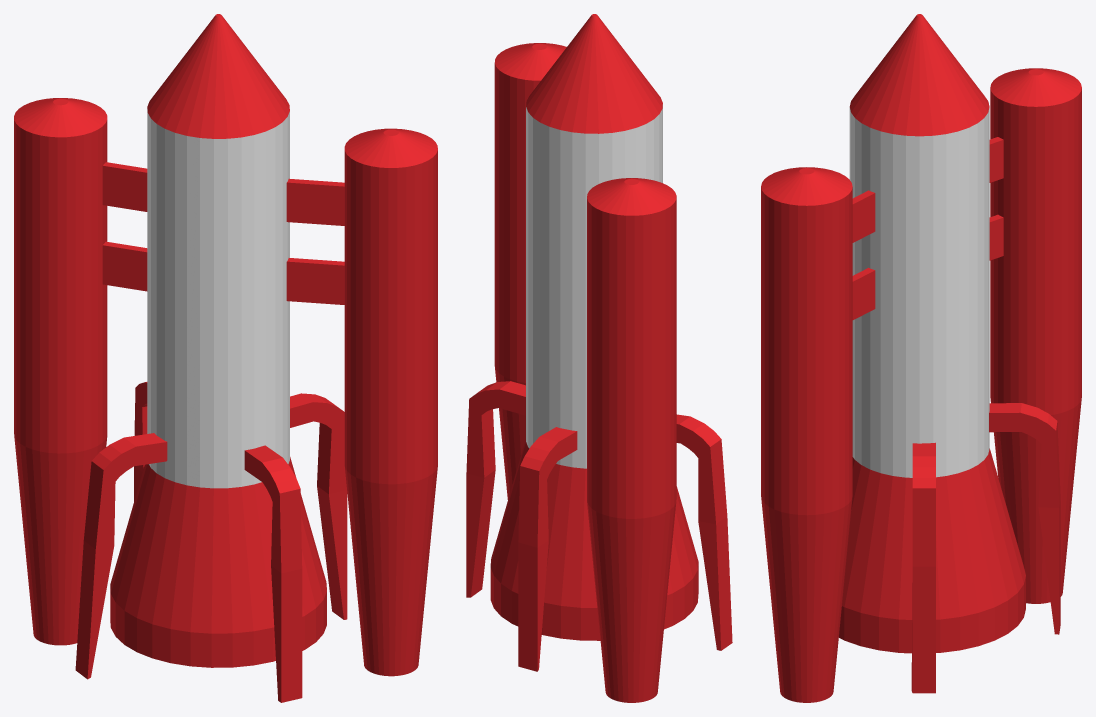
The model's file is foguete.gltf.
The picture shows the model from 3 angles, left to right: view 1: azimuth 30°, elevation 25°; view 2: azimuth 150°, elevation 25°; view 3: azimuth 270°, elevation 25°; orthographic projection. The views are drawn at different scales.
Visible parts, largest first — view 1: Cube; view 2: Cube; view 3: Cube.
Part boxes in pixels (x1,y1,x2,y2): Cube: (14,14,437,702); Cube: (466,14,732,702); Cube: (761,14,1081,702).
Size of the model in its own units: 4.76 by 9.85 by 4.59.
